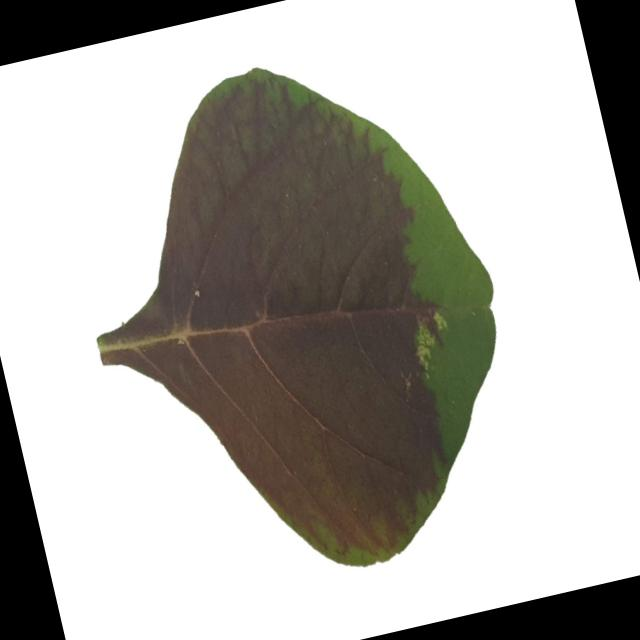Medicinal-Arive Dantu: (46, 24, 548, 616)
